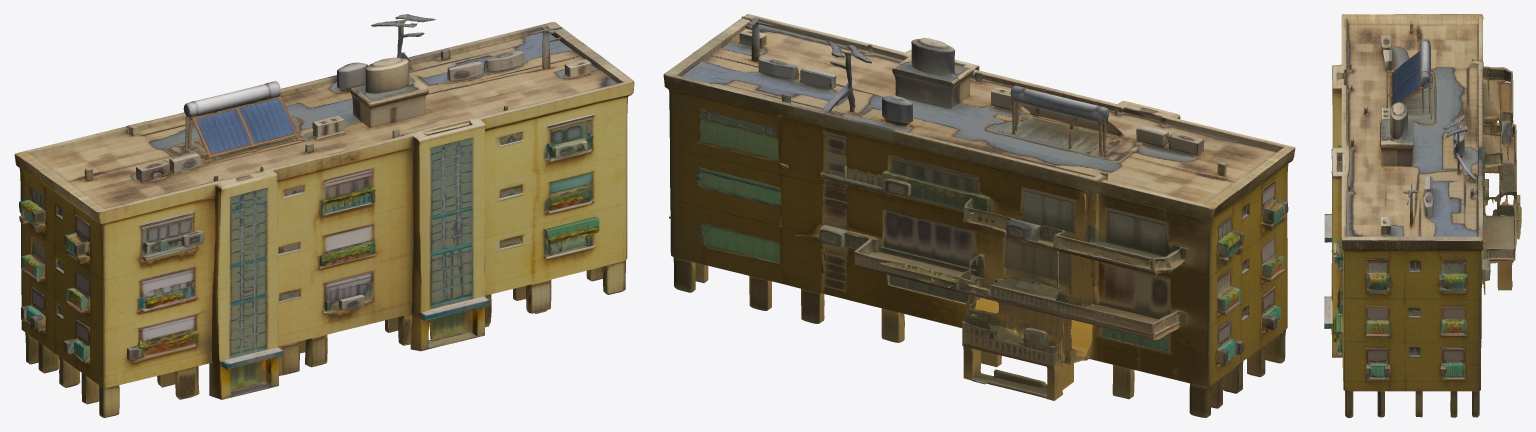
Rendered from r3_devtown_b.glb.
3 renders of one model, left to right at view 1: azimuth 30°, elevation 25°; view 2: azimuth 150°, elevation 25°; view 3: azimuth 270°, elevation 25°, orthographic. The views are drawn at different scales.
Visible parts, largest first — view 1: geometry_0; view 2: geometry_0; view 3: geometry_0.
Boxes of the visible parts, x1=… form: geometry_0: x1=14, y1=14, x2=634, y2=417; geometry_0: x1=663, y1=14, x2=1295, y2=417; geometry_0: x1=1324, y1=14, x2=1521, y2=417.
Size of the model in its own units: 30.55 by 14 by 11.
1 material, 1 textured.
